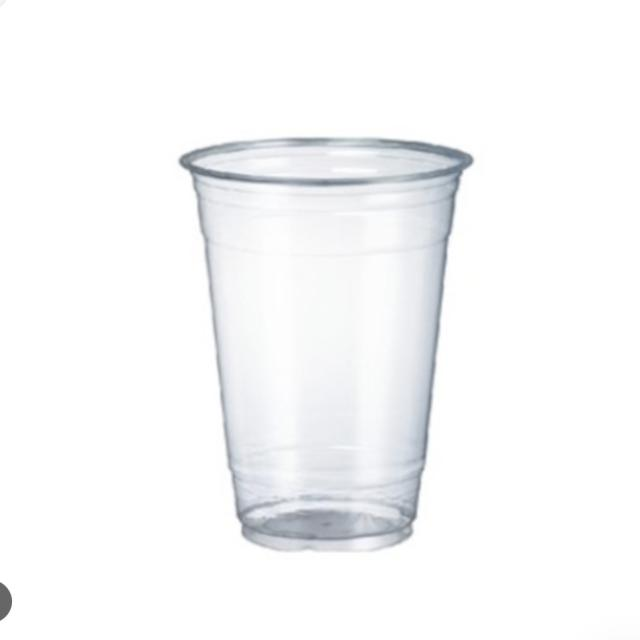recyclable: (146, 97, 533, 579)
